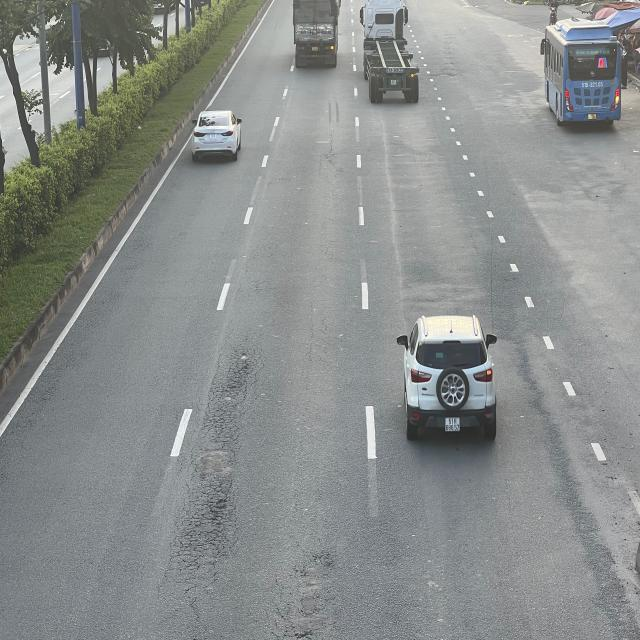car: (395, 314, 498, 444), (191, 109, 241, 160)
coach: (541, 16, 625, 125)
container: (360, 0, 419, 104)
truck: (294, 0, 339, 64)
